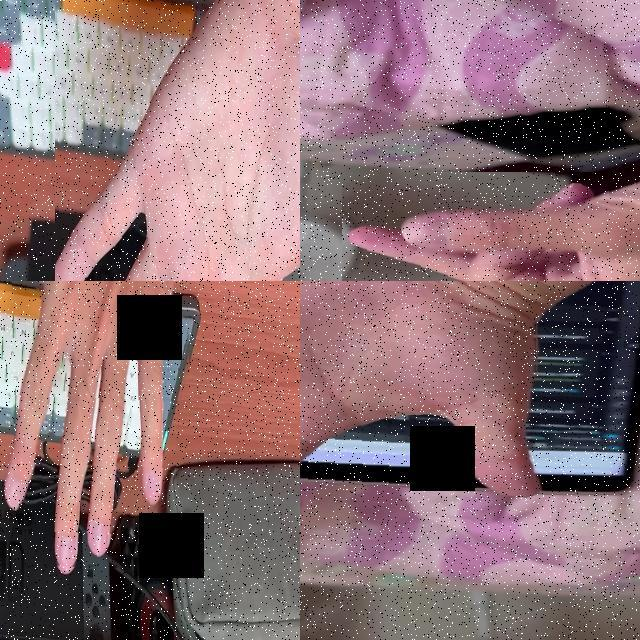keyboard-with-hands: (0, 279, 201, 457)
